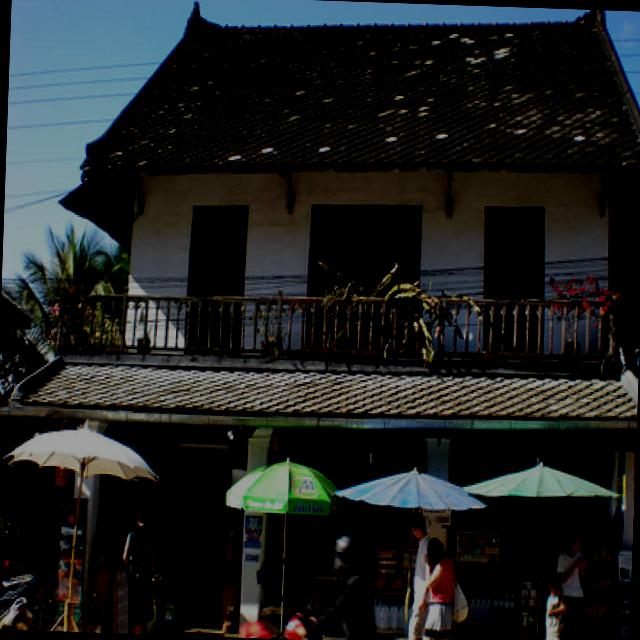Vehicle: (232, 615, 433, 640), (0, 566, 43, 630)
